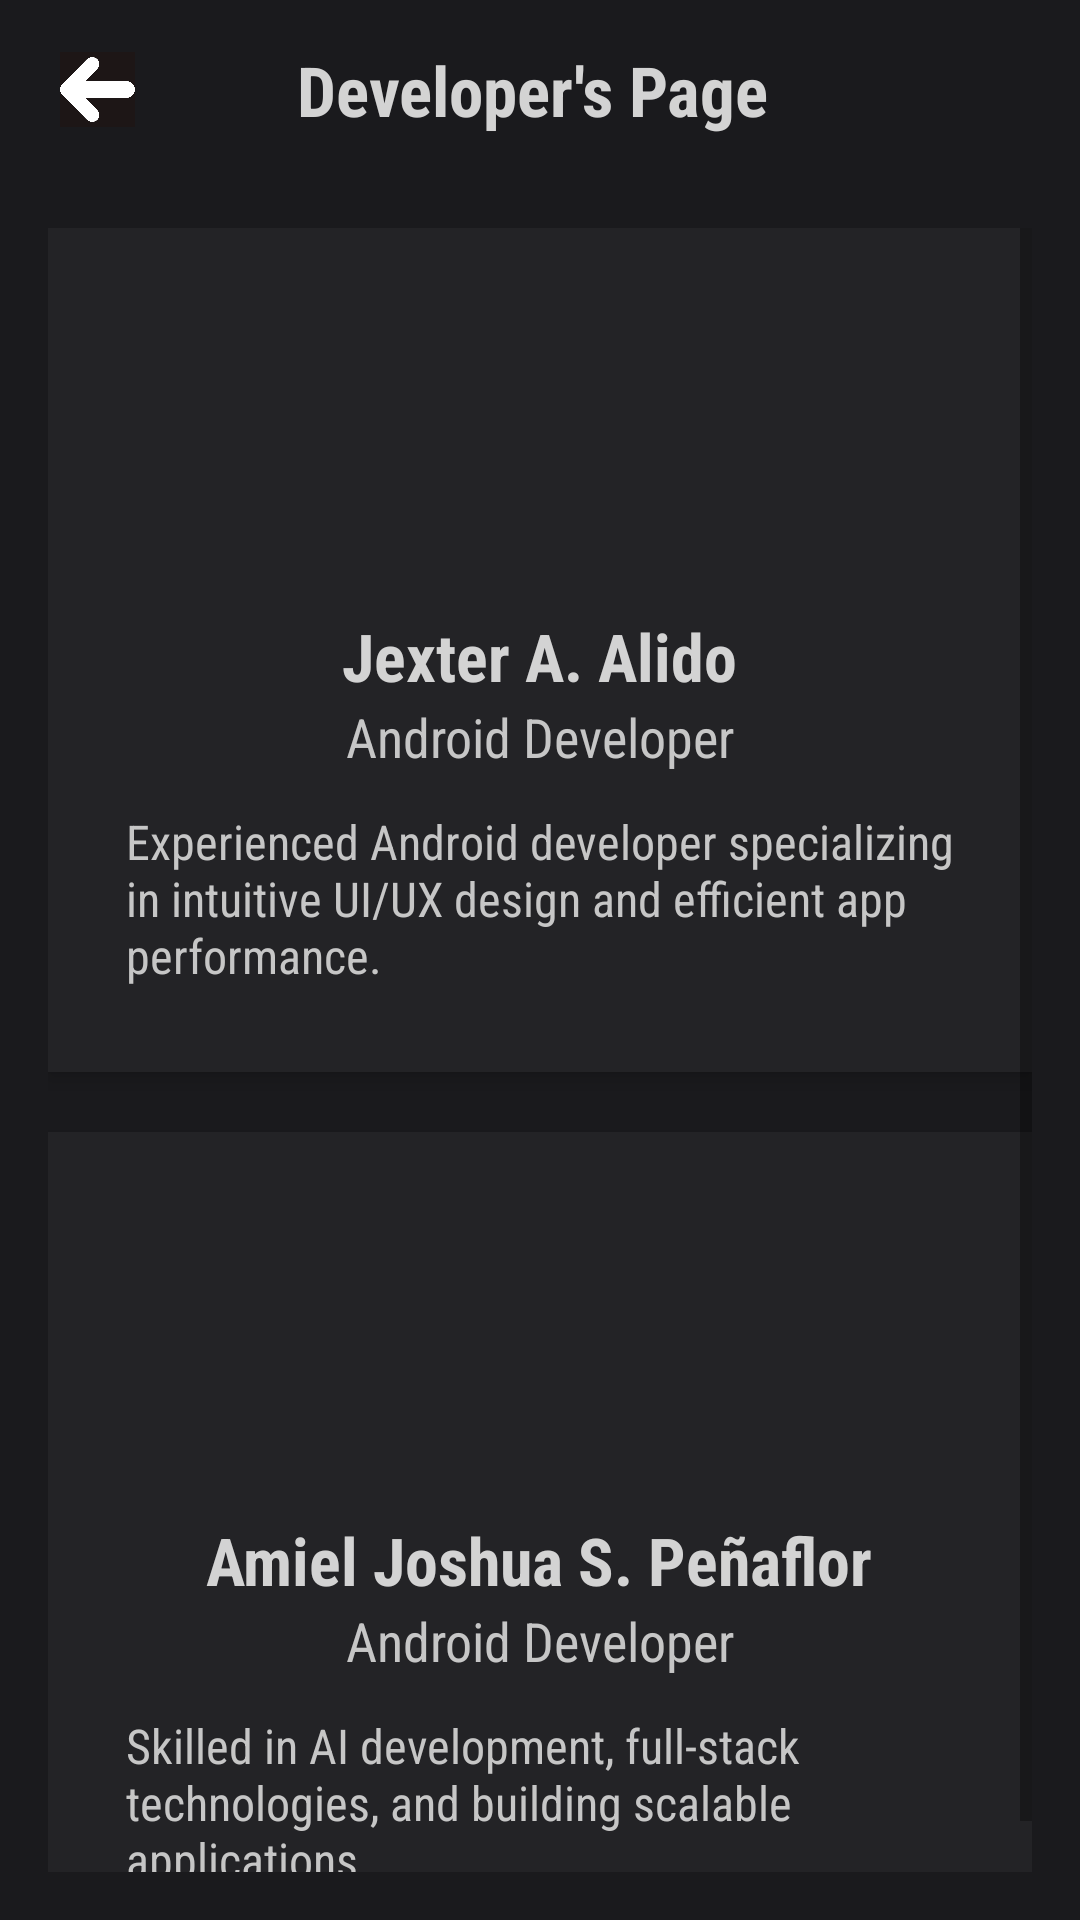

Locate icon controls on the screen. Image size 1080*1920, boxes as (x1,y1,x2,y2).
arrow left: (60,57,135,122)
